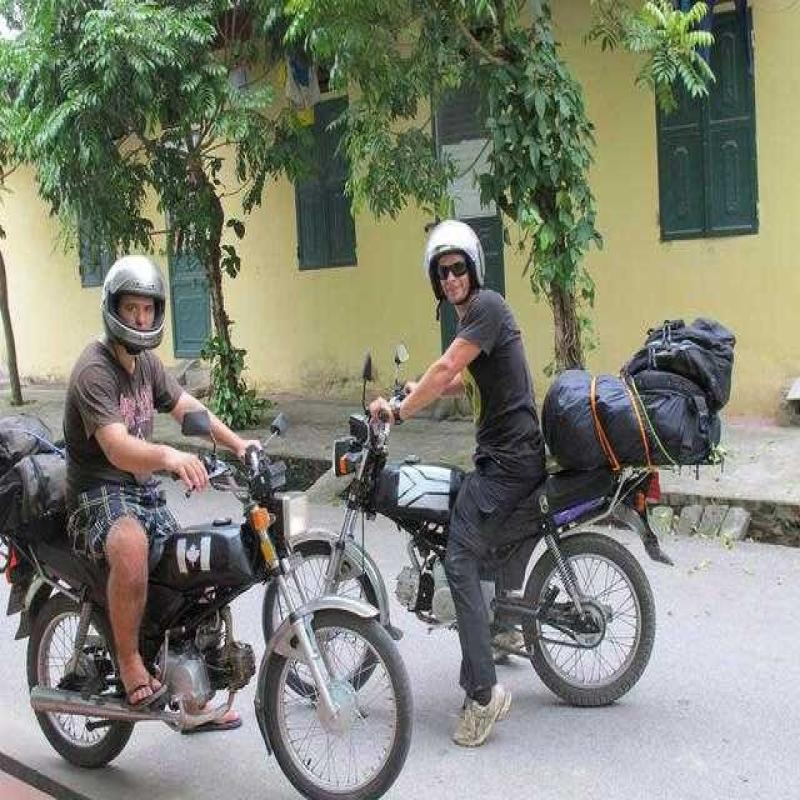bike: (168, 390, 394, 796), (308, 336, 432, 662)
